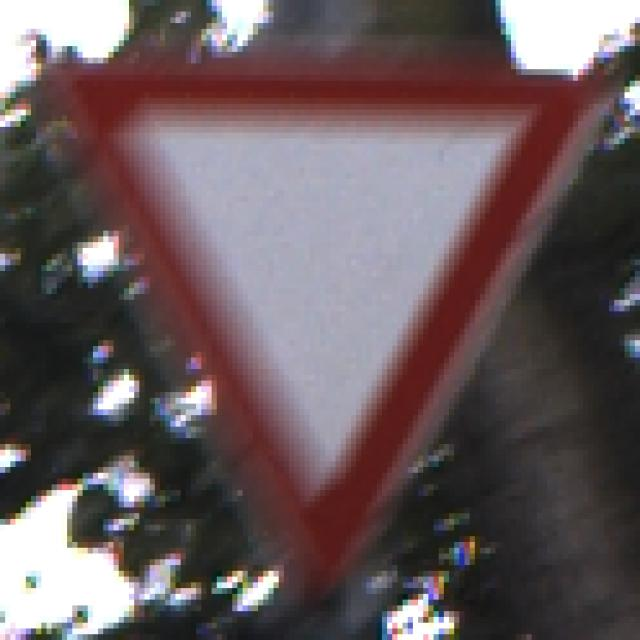Give Way: (58, 53, 589, 589)
